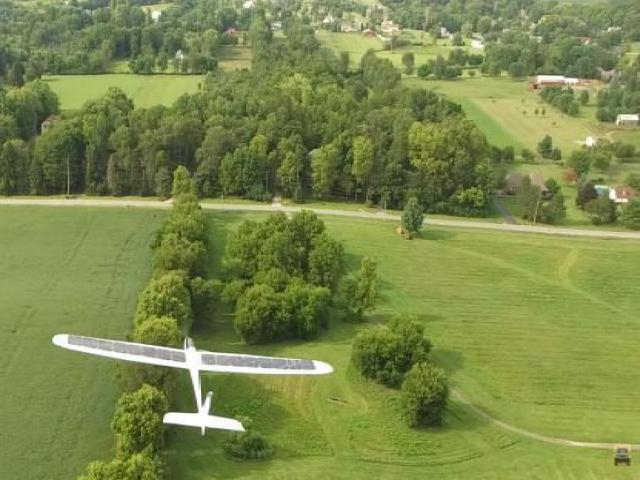uav: (42, 319, 346, 452)
